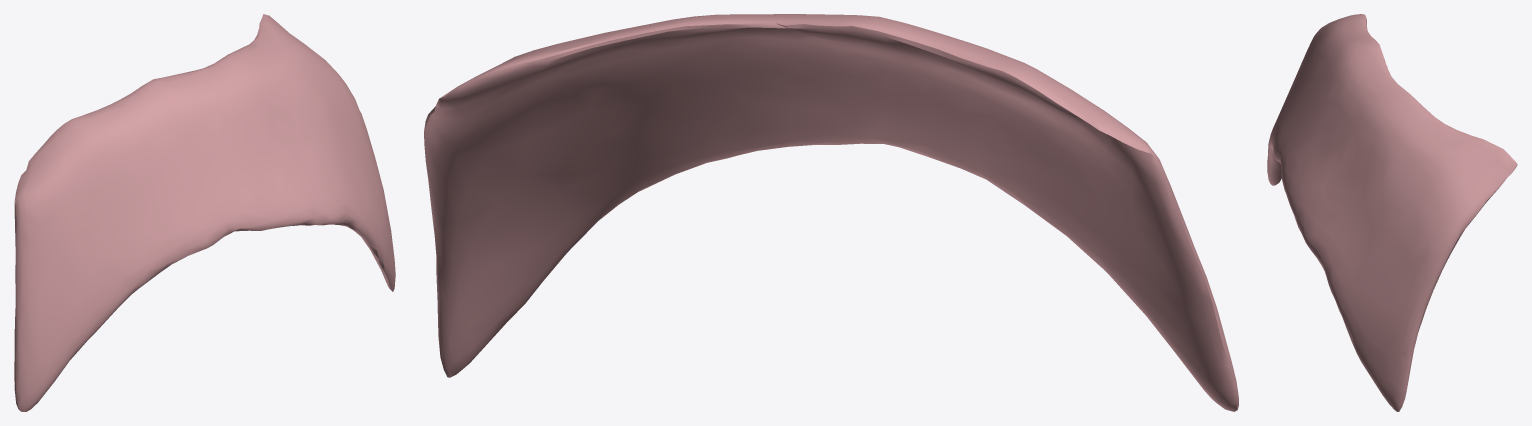
Rendered from fma49063_mm2220.glb.
3 views of the same model, side by side, from view 1: azimuth 30°, elevation 25°; view 2: azimuth 150°, elevation 25°; view 3: azimuth 270°, elevation 25° (orthographic). The views are drawn at different scales.
Visible parts, largest first — view 1: FMA49063_MM2220; view 2: FMA49063_MM2220; view 3: FMA49063_MM2220.
Boxes of the visible parts, left/top/right/bottom form: FMA49063_MM2220: left=14, top=14, right=395, bottom=411; FMA49063_MM2220: left=424, top=14, right=1238, bottom=411; FMA49063_MM2220: left=1267, top=14, right=1517, bottom=411.
Size of the model in its own units: 0.0228 by 0.0137 by 0.0121.
